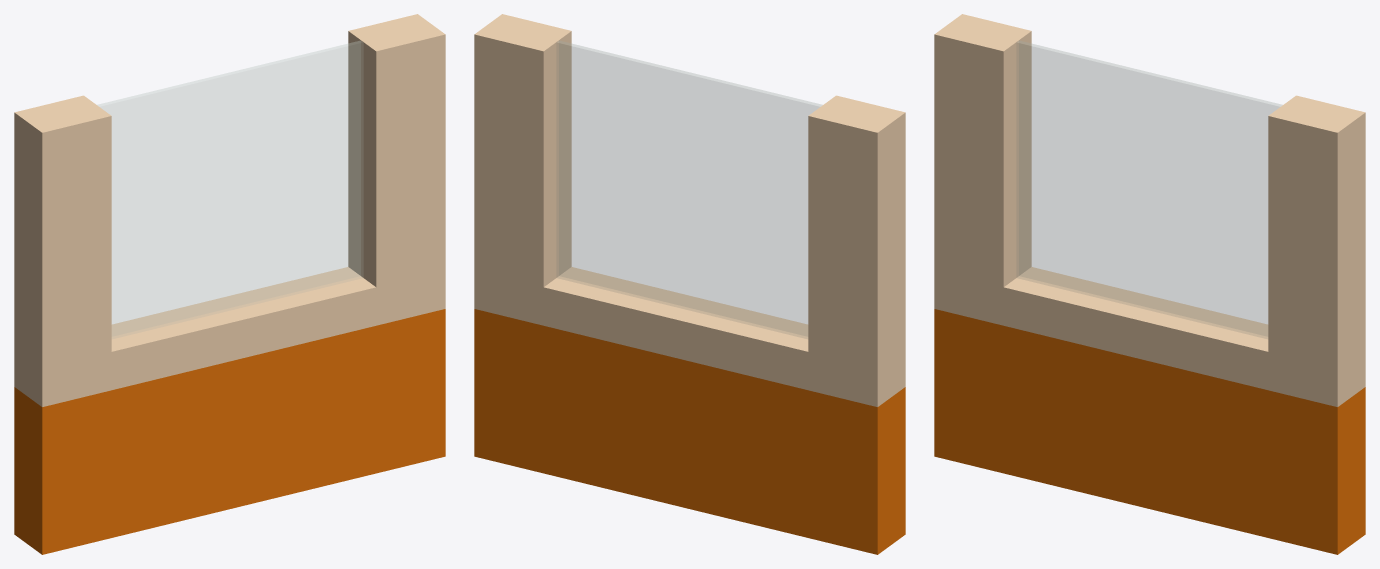
File: 5_tuongkhungcuaso.fbx
3 renders of one model, left to right at view 1: azimuth 30°, elevation 25°; view 2: azimuth 150°, elevation 25°; view 3: azimuth 330°, elevation 25°, orthographic.
Visible parts, largest first — view 1: tuongcuaso; view 2: tuongcuaso; view 3: tuongcuaso.
Boxes of the visible parts, x1,y1,x2,y2 form: tuongcuaso: (14, 14, 445, 554); tuongcuaso: (474, 14, 905, 554); tuongcuaso: (934, 14, 1365, 554).
Bounding box in the file's own units: 200 × 200 × 24.
